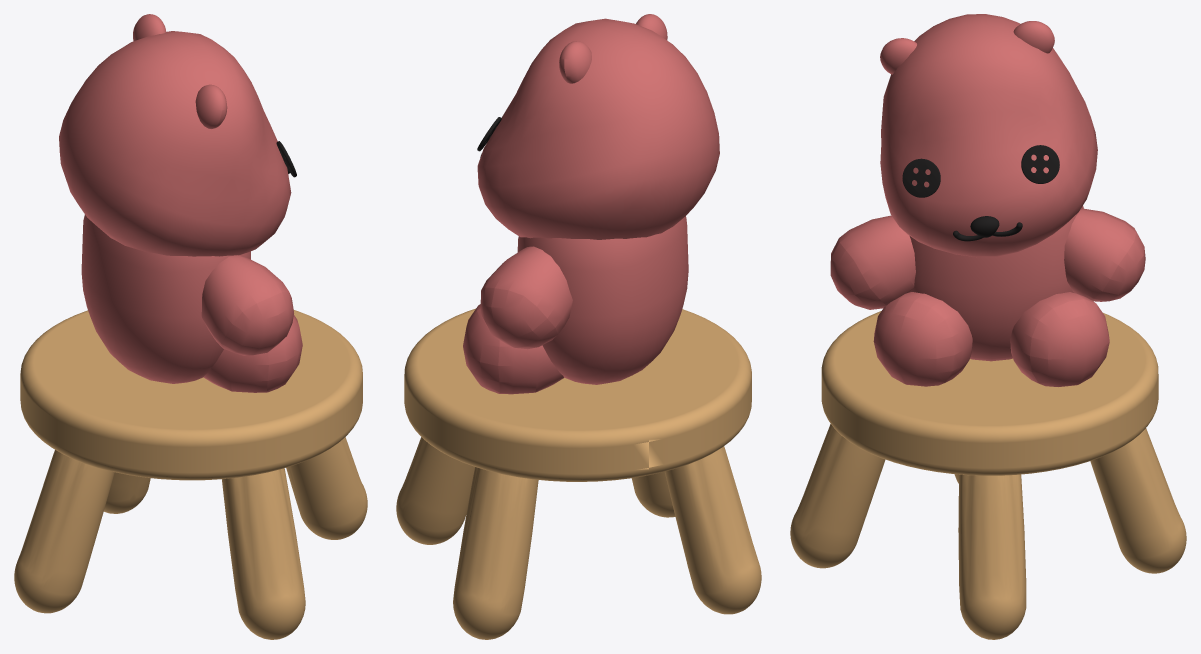
The model's file is toddler.fbx.
The picture shows the model from 3 angles, left to right: view 1: azimuth 30°, elevation 25°; view 2: azimuth 150°, elevation 25°; view 3: azimuth 270°, elevation 25°; orthographic projection. The views are drawn at different scales.
Visible parts, largest first — view 1: Head, Cylinder 6, Body, Sphere.003, Sphere, Arm, Sphere.002, Foot, Sphere.001; view 2: Head, Cylinder 6, Body, Sphere.001, Sphere, Arm 3, Sphere.002, Foot 2, Sphere.003; view 3: Head, Cylinder 6, Body, Sphere.002, Sphere.001, Sphere.003, Foot 2, Foot, Arm, Arm 3, Button 2, Button.
Part boxes in pixels (x1=…): Head: x1=59, y1=14, x2=291, y2=256; Cylinder 6: x1=20, y1=310, x2=362, y2=480; Body: x1=81, y1=214, x2=250, y2=383; Sphere.003: x1=222, y1=468, x2=305, y2=639; Sphere: x1=14, y1=450, x2=114, y2=613; Arm: x1=201, y1=255, x2=293, y2=355; Sphere.002: x1=286, y1=437, x2=367, y2=539; Foot: x1=204, y1=315, x2=302, y2=392; Sphere.001: x1=104, y1=472, x2=150, y2=513; Head: x1=477, y1=14, x2=719, y2=239; Cylinder 6: x1=404, y1=308, x2=751, y2=481; Body: x1=517, y1=216, x2=688, y2=384; Sphere.001: x1=453, y1=467, x2=538, y2=639; Sphere: x1=665, y1=446, x2=761, y2=614; Arm 3: x1=480, y1=246, x2=572, y2=349; Sphere.002: x1=396, y1=437, x2=474, y2=544; Foot 2: x1=463, y1=304, x2=563, y2=394; Sphere.003: x1=632, y1=471, x2=675, y2=517; Head: x1=880, y1=14, x2=1097, y2=257; Cylinder 6: x1=821, y1=311, x2=1158, y2=475; Body: x1=909, y1=206, x2=1083, y2=361; Sphere.002: x1=958, y1=474, x2=1026, y2=639; Sphere.001: x1=1090, y1=428, x2=1186, y2=573; Sphere.003: x1=790, y1=424, x2=885, y2=568; Foot 2: x1=1010, y1=292, x2=1109, y2=386; Foot: x1=873, y1=292, x2=972, y2=386; Arm: x1=830, y1=215, x2=915, y2=309; Arm 3: x1=1064, y1=208, x2=1145, y2=301; Button 2: x1=1021, y1=145, x2=1059, y2=183; Button: x1=902, y1=158, x2=940, y2=197.
Size of the model in its own units: 179 by 269 by 180.
